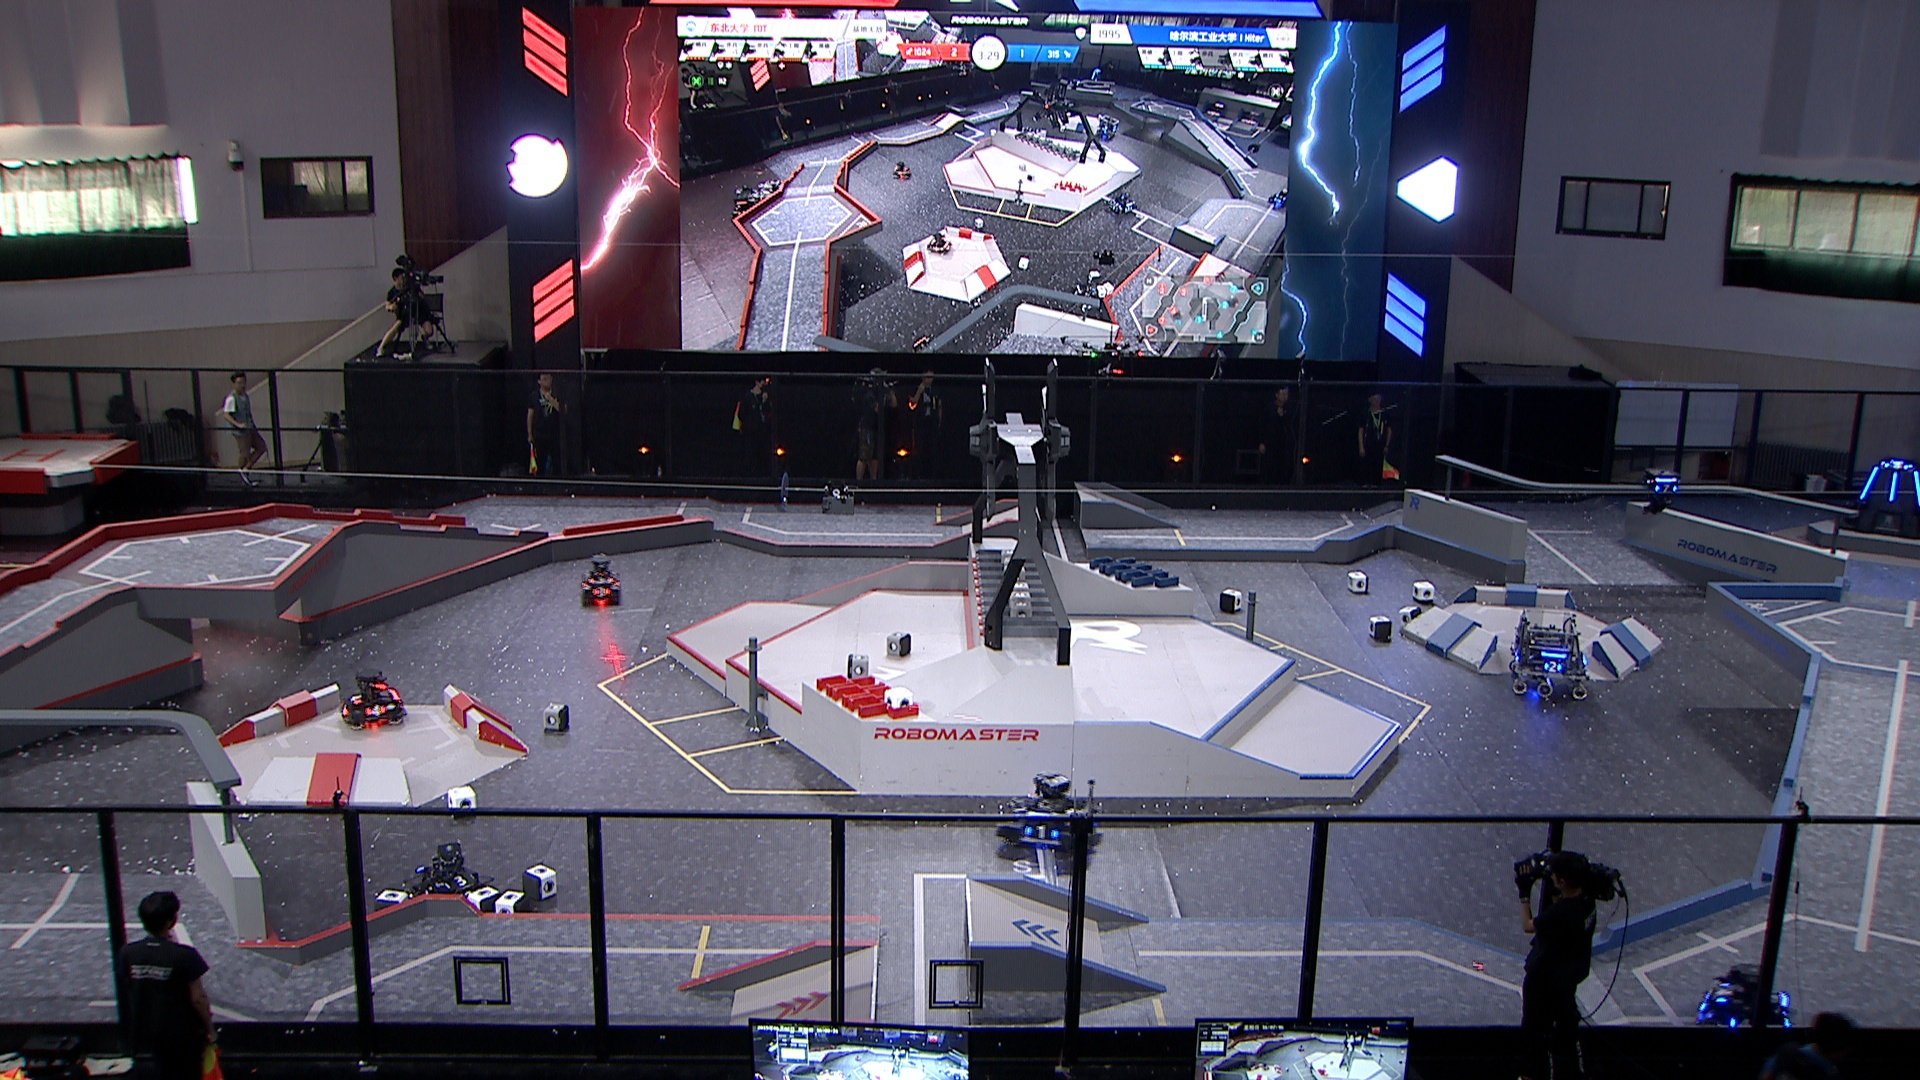armor: (1859, 465, 1879, 498), (446, 872, 477, 891), (1025, 823, 1058, 840), (1713, 978, 1731, 1005), (1539, 659, 1561, 673), (1912, 469, 1920, 506), (1888, 472, 1898, 504), (1010, 803, 1026, 822), (1884, 460, 1911, 471), (589, 575, 615, 585), (367, 704, 386, 717), (1655, 483, 1675, 493), (593, 585, 609, 597), (348, 694, 363, 705), (340, 703, 352, 717)
base: (1837, 456, 1920, 545)
car: (994, 774, 1102, 856), (1505, 603, 1592, 702), (1695, 963, 1793, 1044), (410, 839, 491, 905), (334, 666, 407, 731), (576, 553, 624, 608)
ignore: (731, 183, 760, 219), (1106, 186, 1139, 214), (754, 178, 783, 204), (1093, 109, 1117, 138), (911, 334, 936, 360), (1265, 186, 1288, 210), (924, 232, 951, 253), (887, 161, 913, 181), (1088, 65, 1105, 86)
watcher: (1636, 463, 1687, 518)
